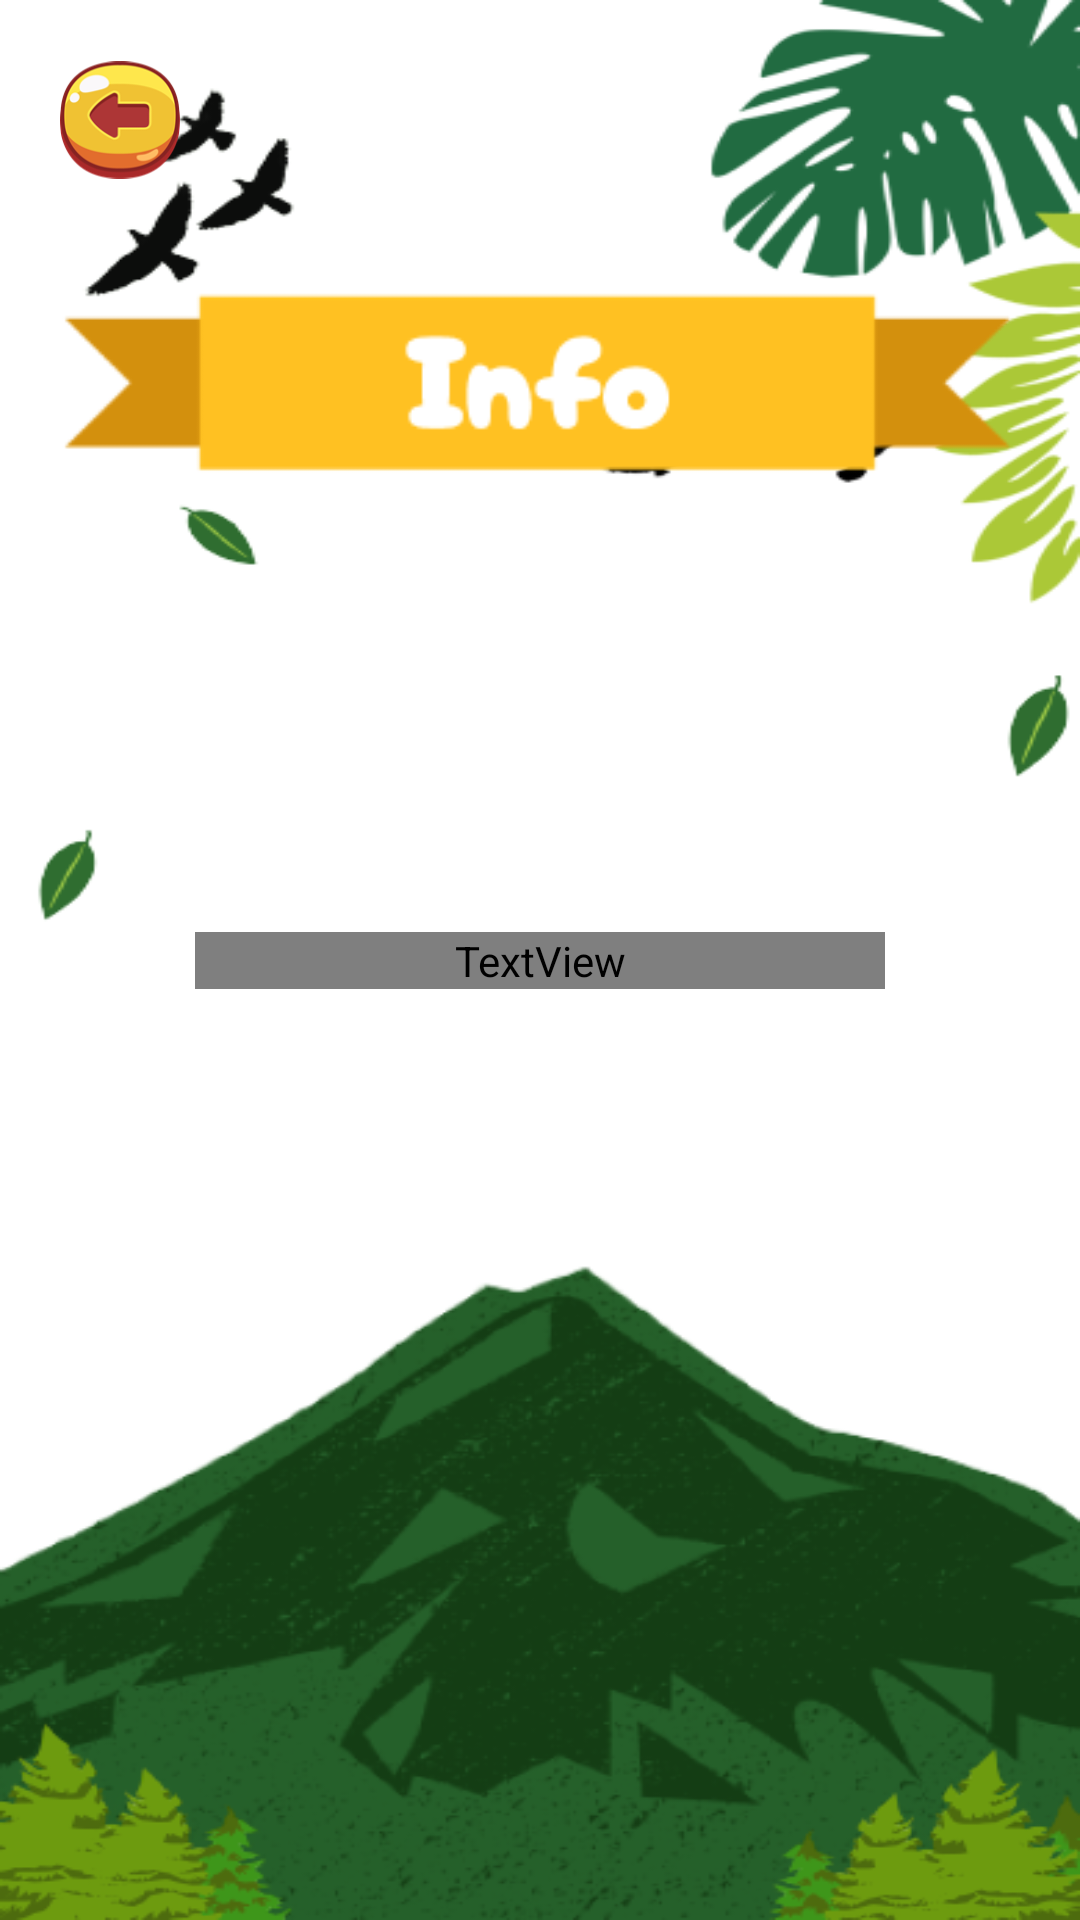

Icon click points for this 1080px×1920px phone screenshot, format (x,y):
back: (120,120)
